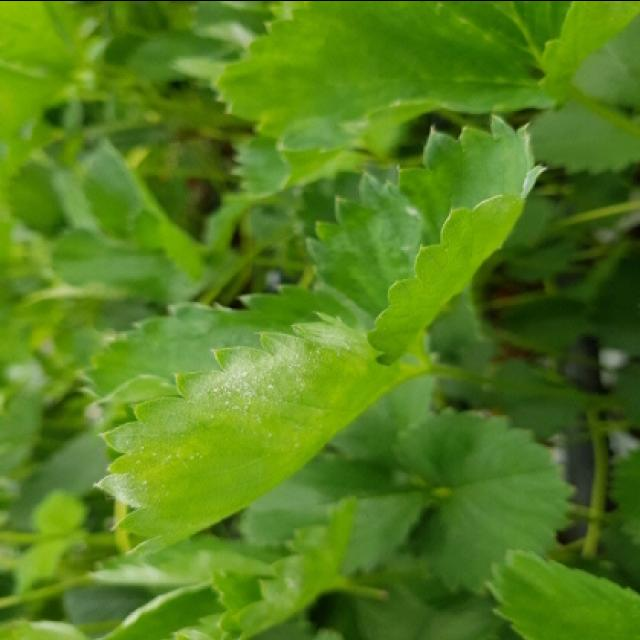Powdery Mildew Leaf: (92, 310, 414, 555)
